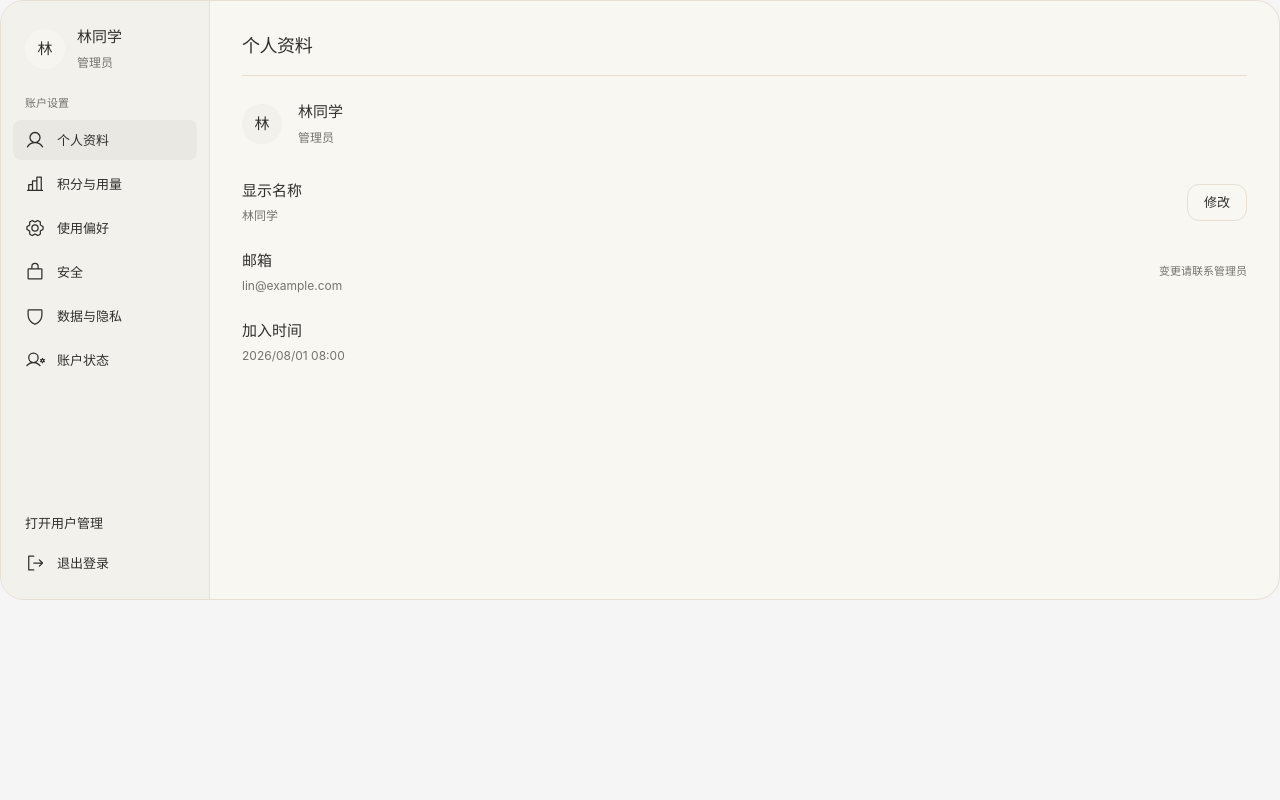
Test: AccountSettingsPage › explains the fixed deployment administrator boundary without offering deletion
The image size is (1280, 800).
Expected: the heading "账户设置" is shown, [25,96,69,110]
Click the button "账户状态". click: [105, 360]
box: [13,340,197,380]
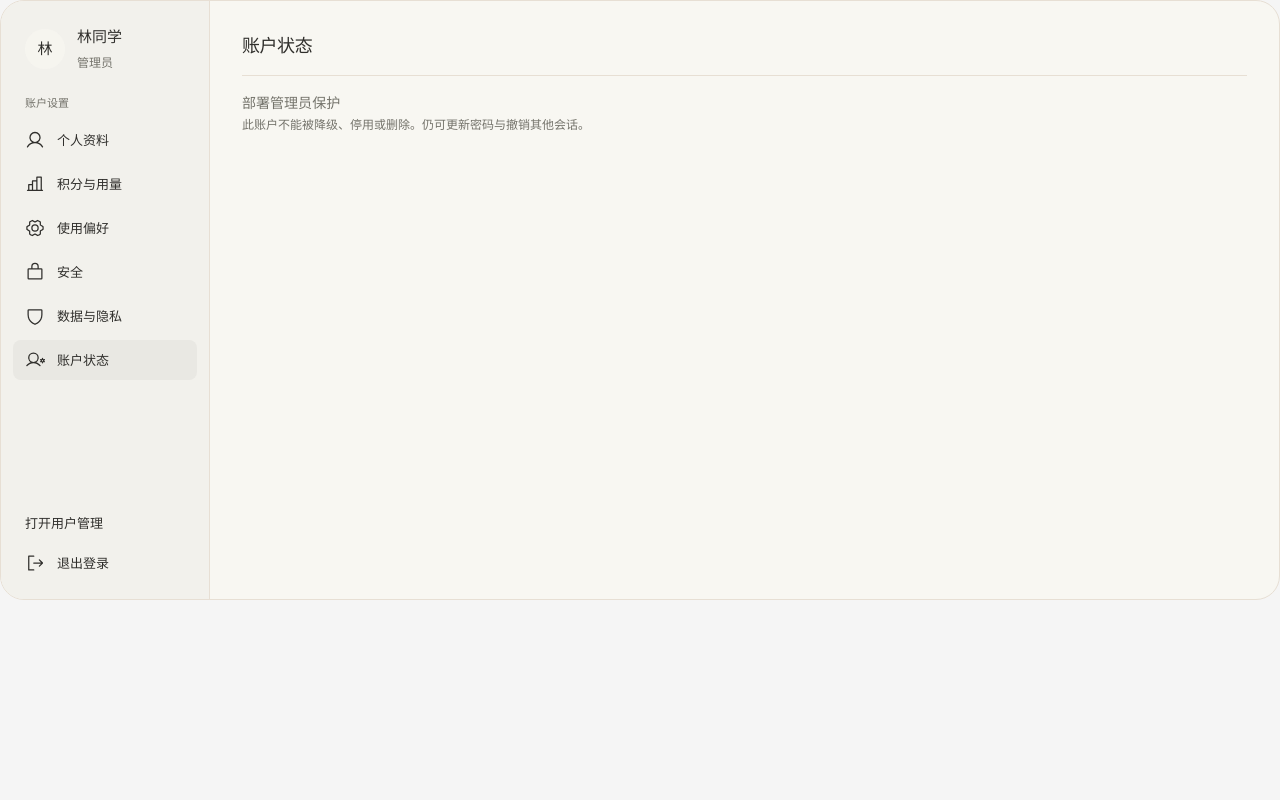
Expected: the heading "部署管理员保护" is shown, [242,94,340,111]
Expected: the text "此账户不能被降级、停用或删除。仍可更新密码与撤销其他会话。" is shown, [242,117,590,132]
